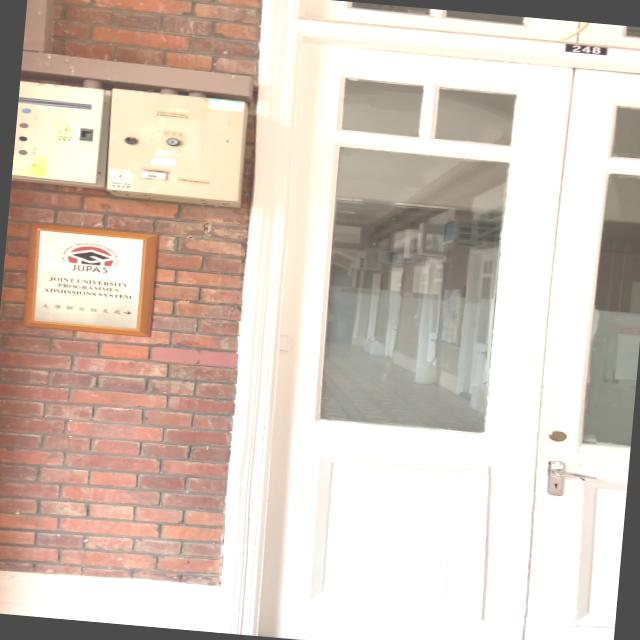room248: (559, 36, 614, 56)
